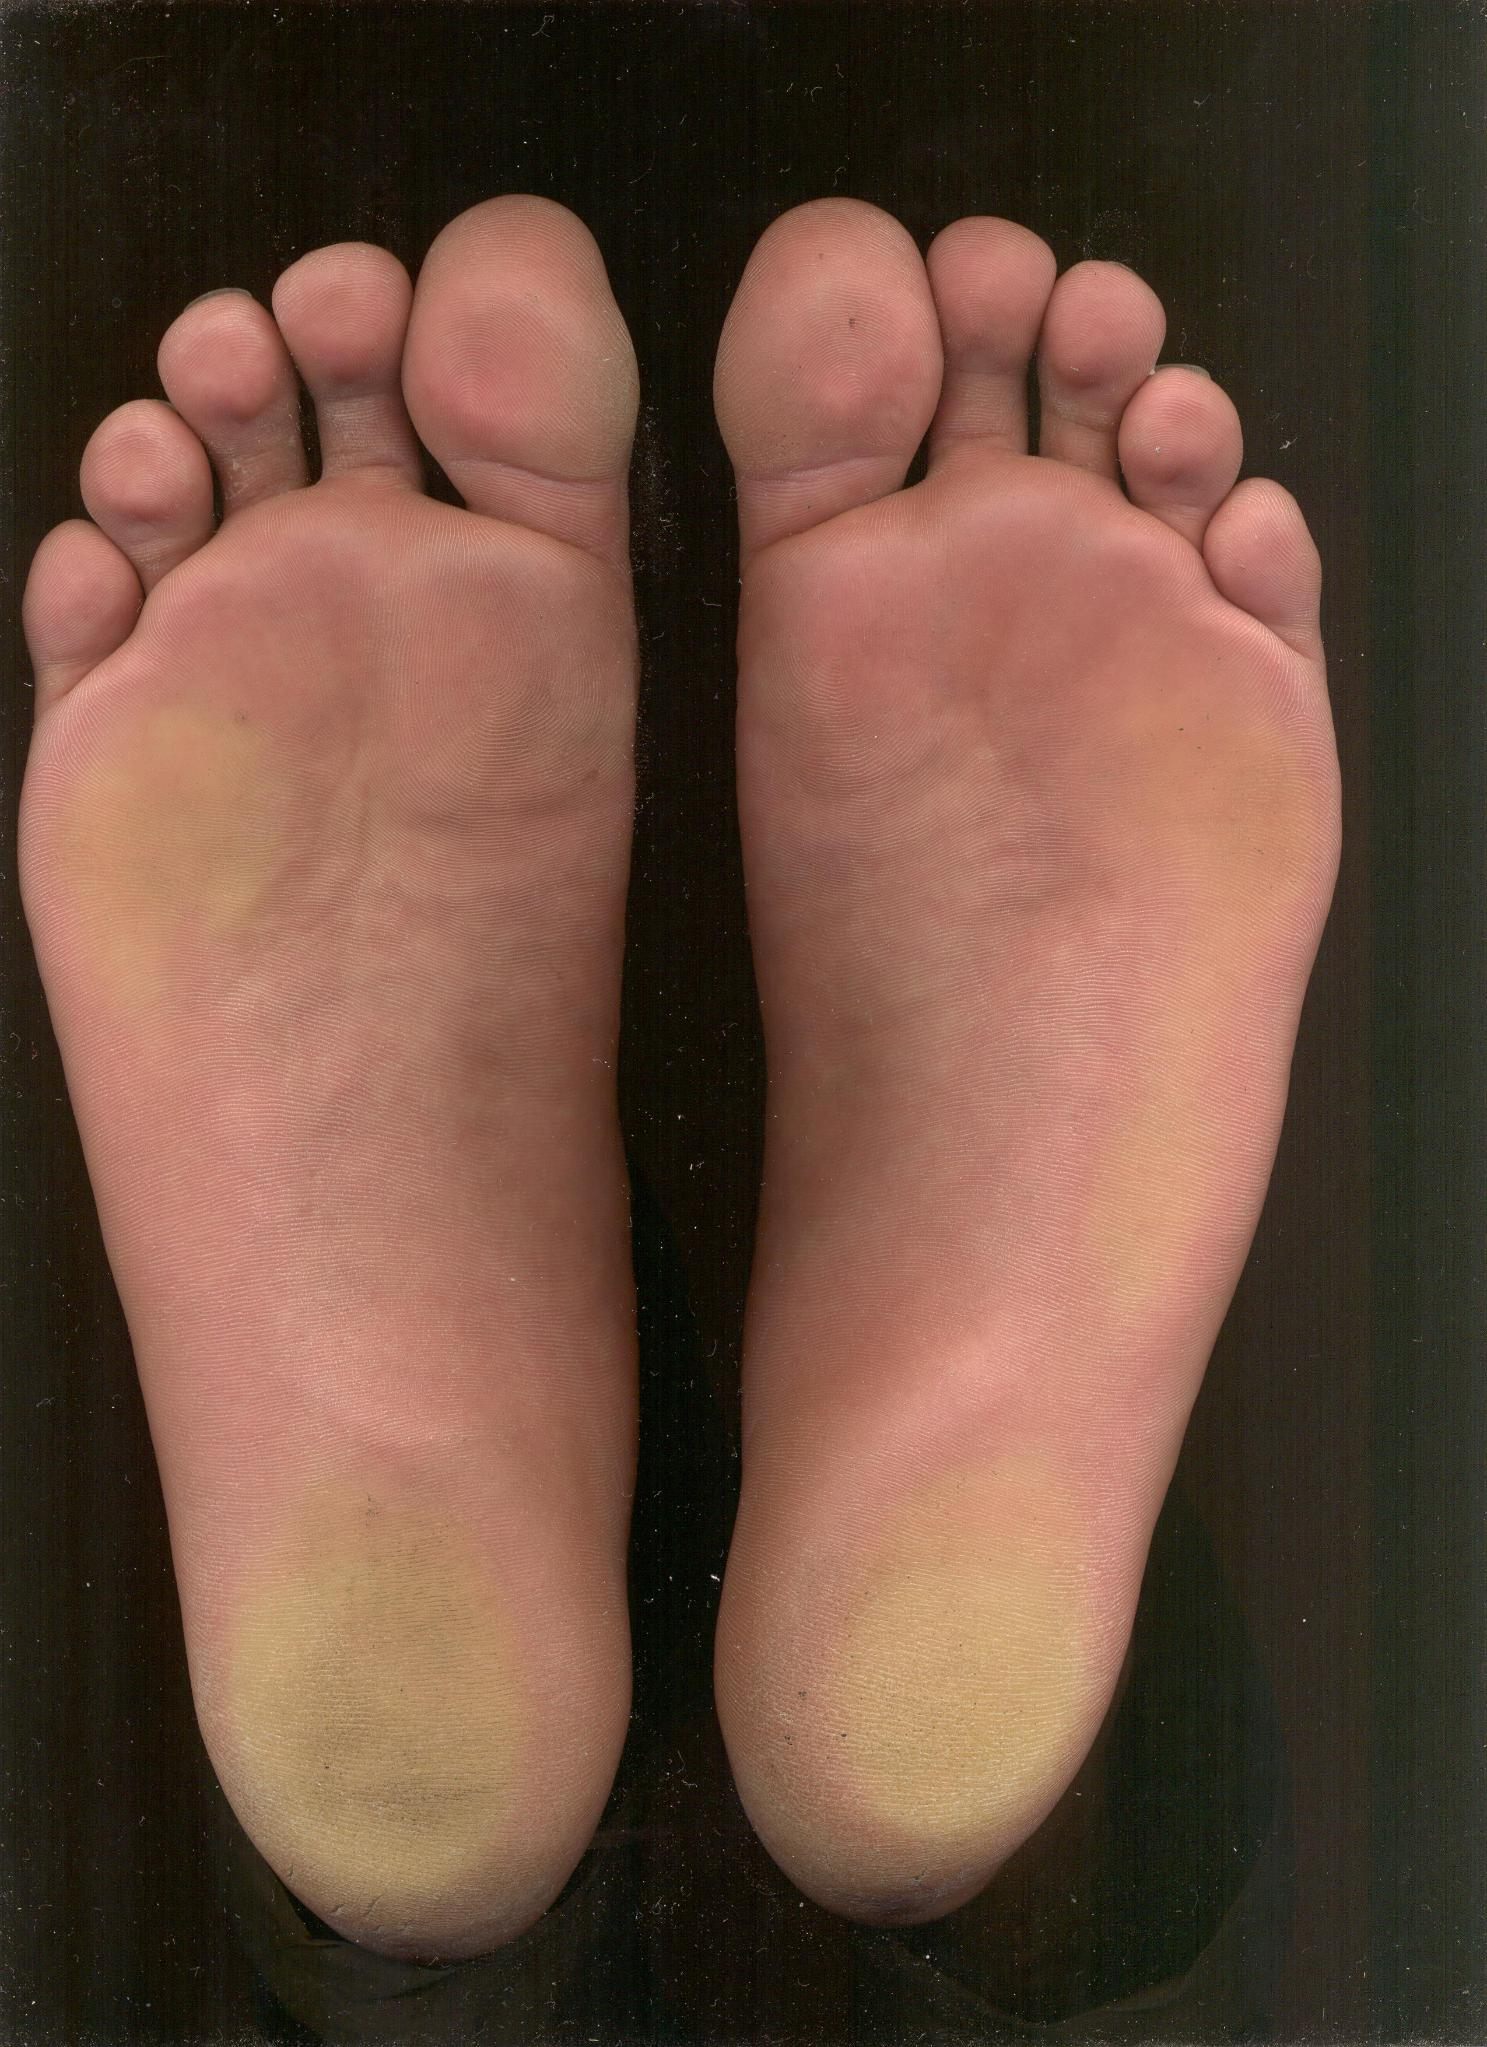1: (5, 181, 670, 1948)
Present: (718, 175, 1366, 1942)
